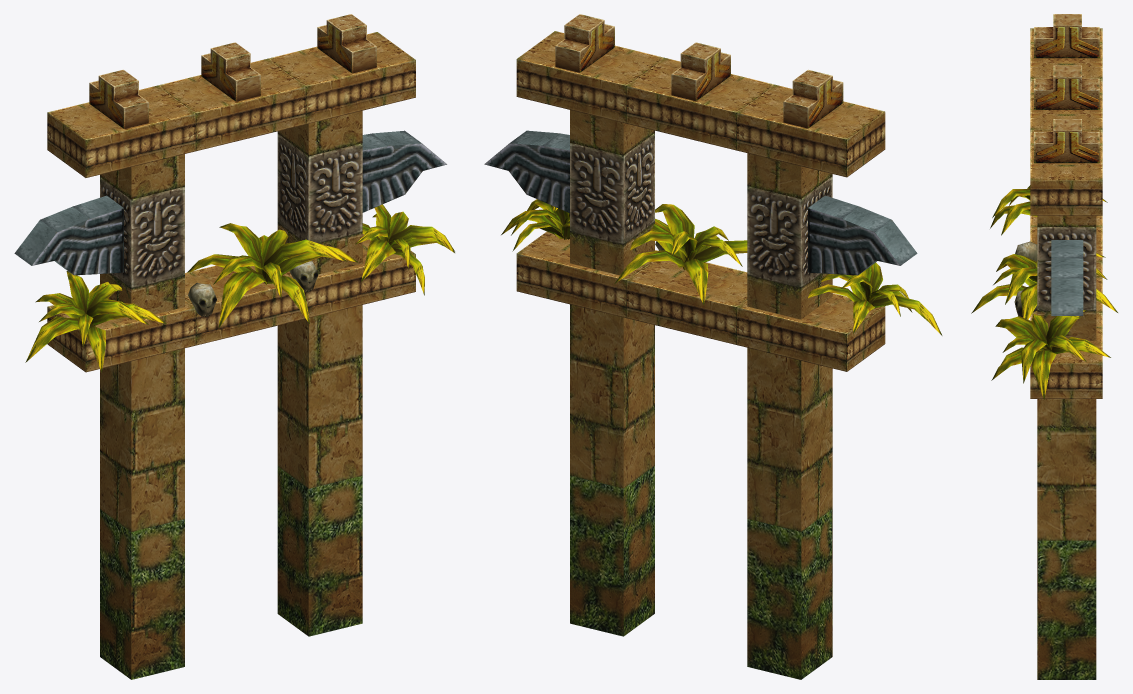
Rendered from Ruins01.FBX.
3 renders of one model, left to right at view 1: azimuth 30°, elevation 25°; view 2: azimuth 150°, elevation 25°; view 3: azimuth 270°, elevation 25°, orthographic. The views are drawn at different scales.
Parts seen in each view (by area): view 1: Ruins, Weeds (×3), Skull; view 2: Ruins, Weeds (×3); view 3: Ruins, Weeds (×3), Skull.
Boxes of the visible parts, x1,y1,x2,y2 form: Ruins: [14, 14, 446, 679]; Weeds (×3): [25, 204, 454, 372]; Skull: [188, 282, 216, 316]; Ruins: [484, 14, 917, 679]; Weeds (×3): [501, 199, 942, 335]; Ruins: [1030, 14, 1102, 679]; Weeds (×3): [971, 185, 1117, 399]; Skull: [1015, 241, 1037, 261].
Bounding box in the file's own units: 821 × 1060 × 256.
